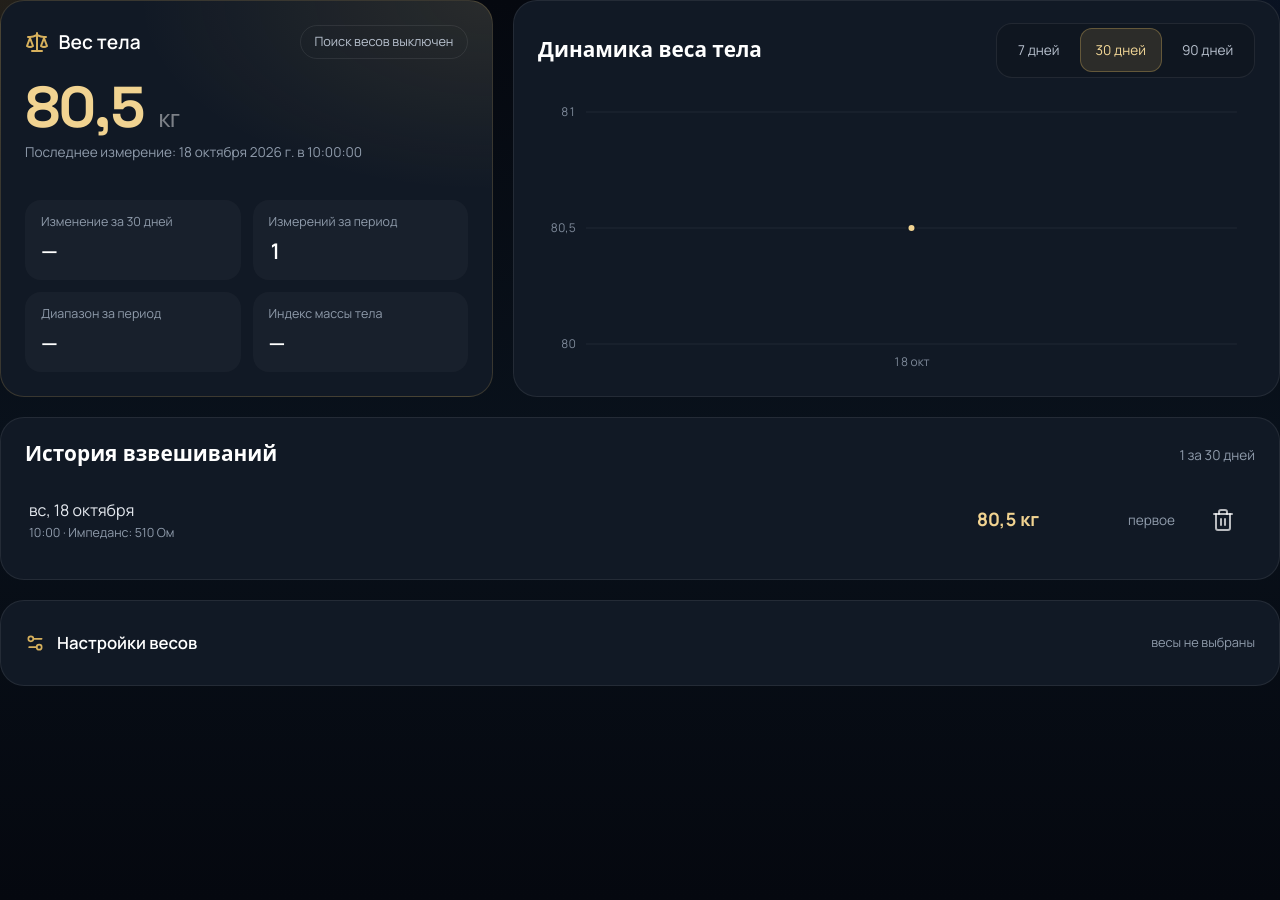
Test: BodyWeightPanel shared scales › confirms precise weight/time, cancels without DELETE, then deletes with owner/confirm and invalidates caches
Click the button named "Удалить 80,5 кг": (1223, 520) [1191,488,1255,552]
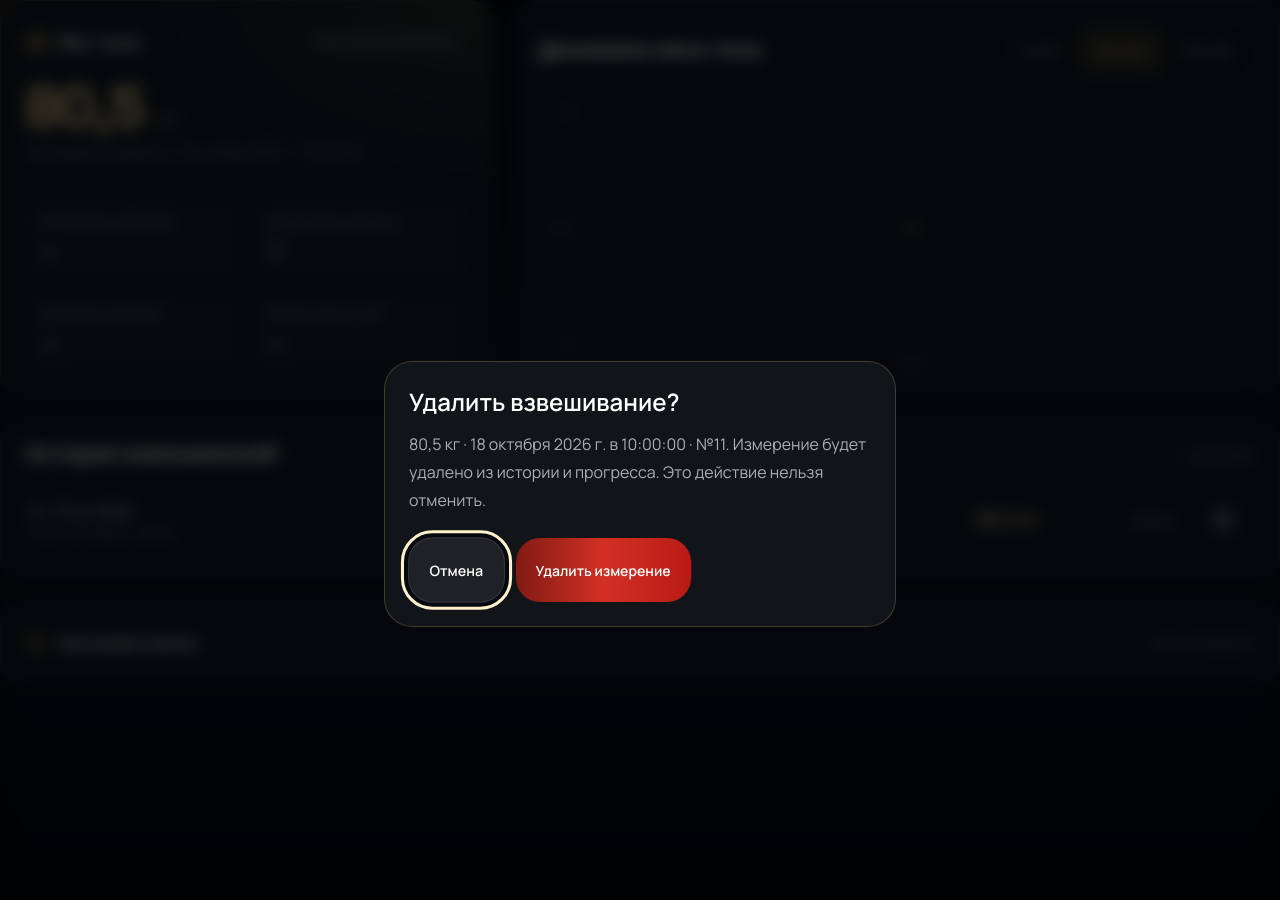
Expected: the dialog shows "10:00:00", [409,433,733,455]
Click the button "Отмена": (456, 570) [408,537,505,603]
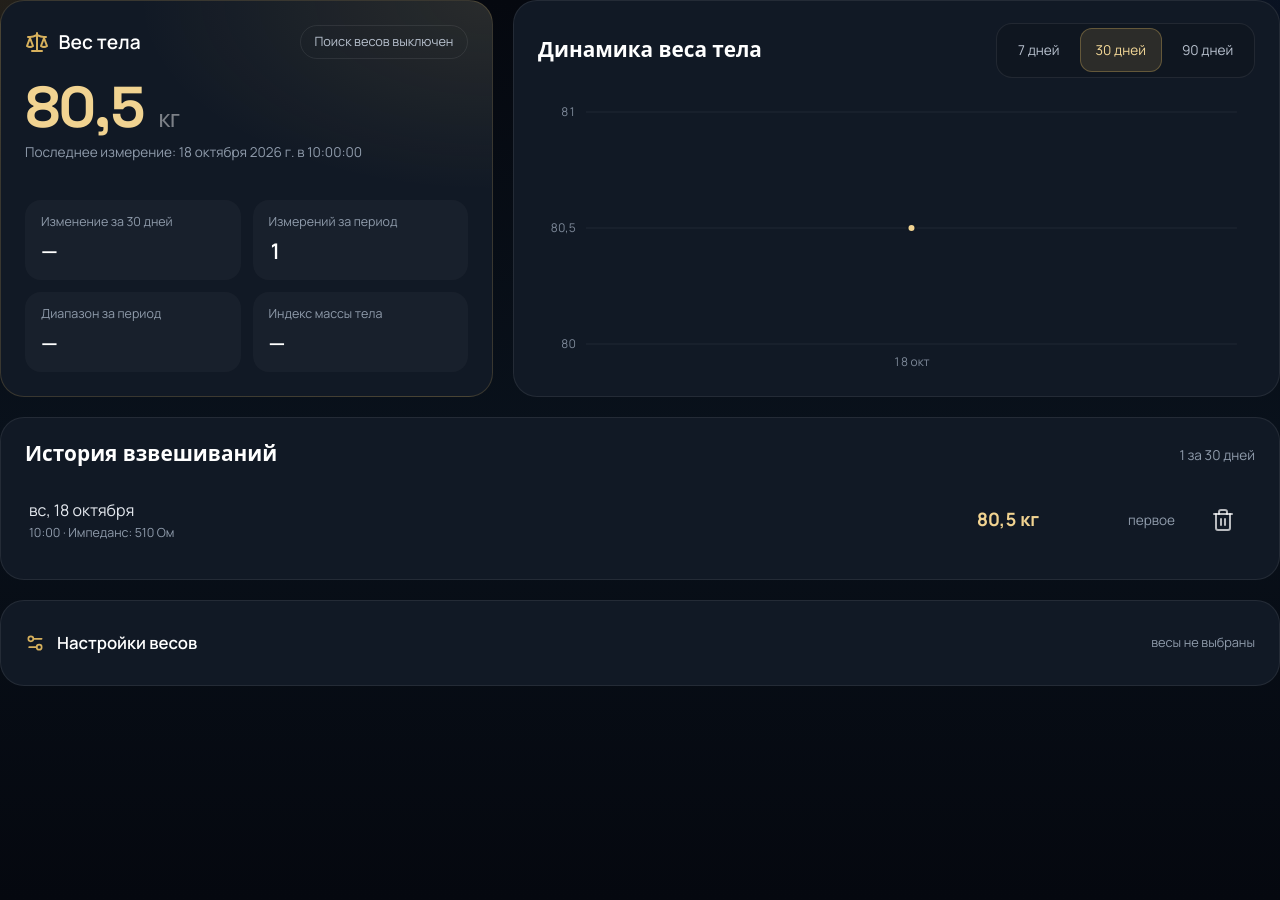
Click the button named "Удалить 80,5 кг": (1223, 520) [1191,488,1255,552]
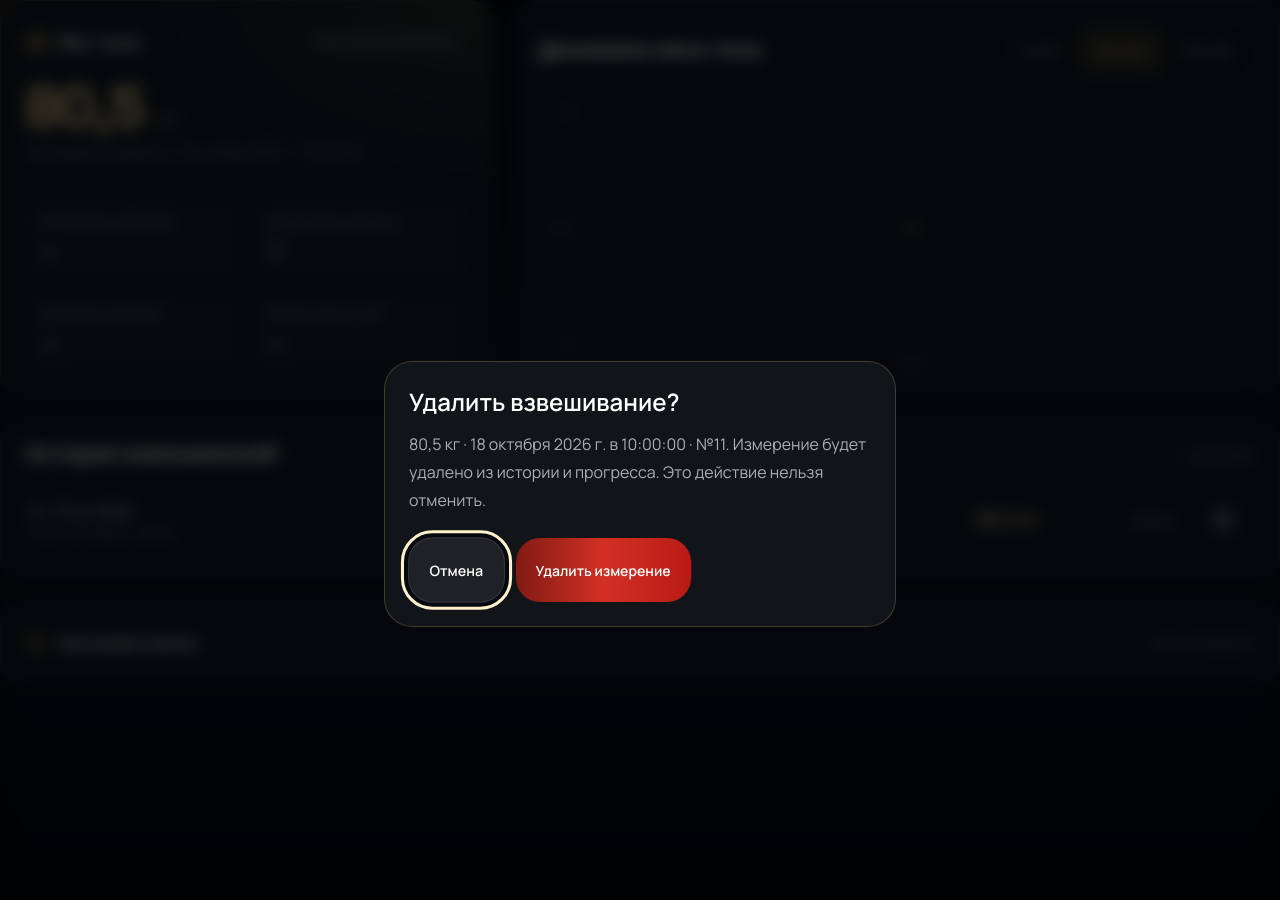
Click the button "Удалить измерение": (603, 570) [516,538,691,602]
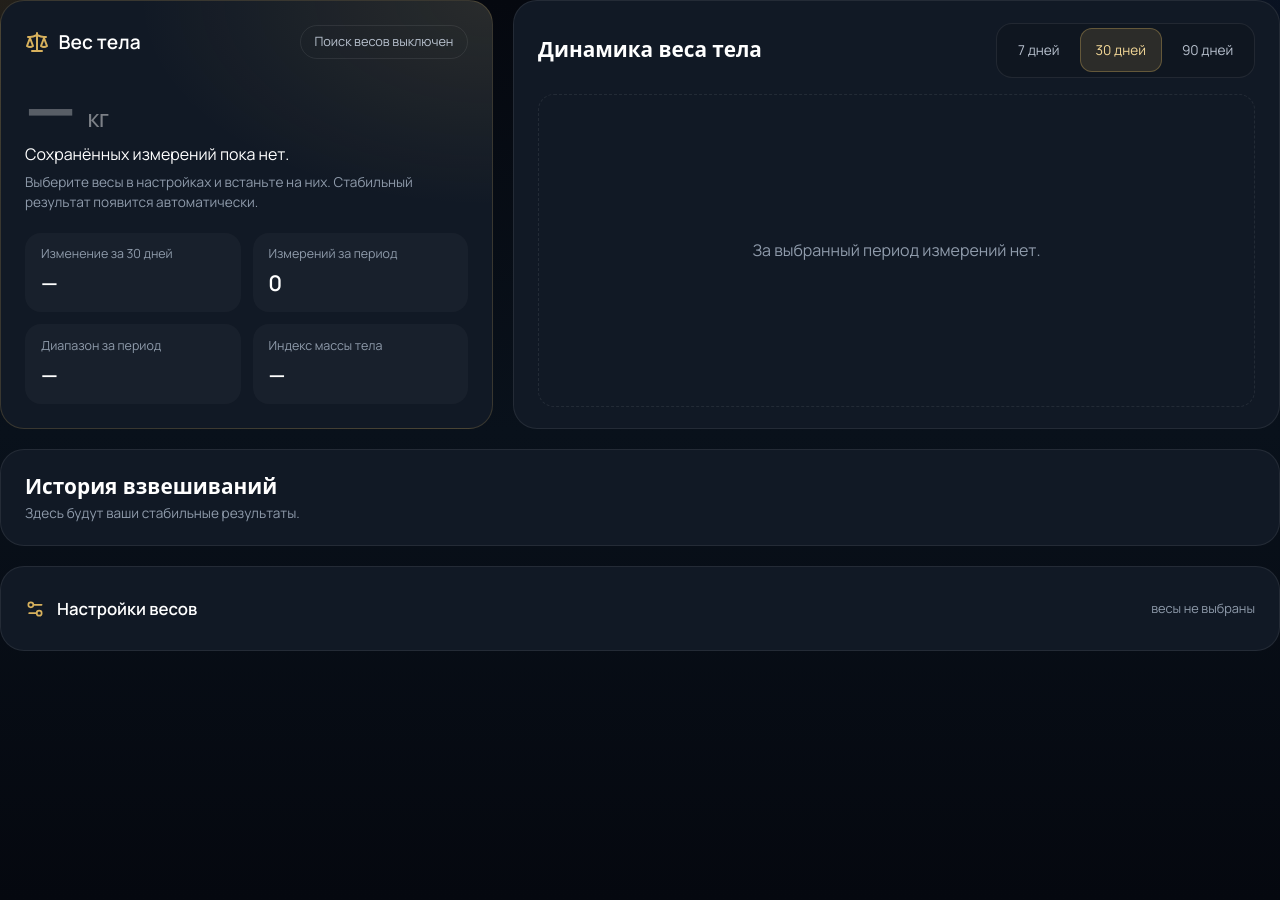
Expected: the dialog is gone
Expected: the text "Сохранённых измерений пока нет." is shown, [25,143,289,165]
